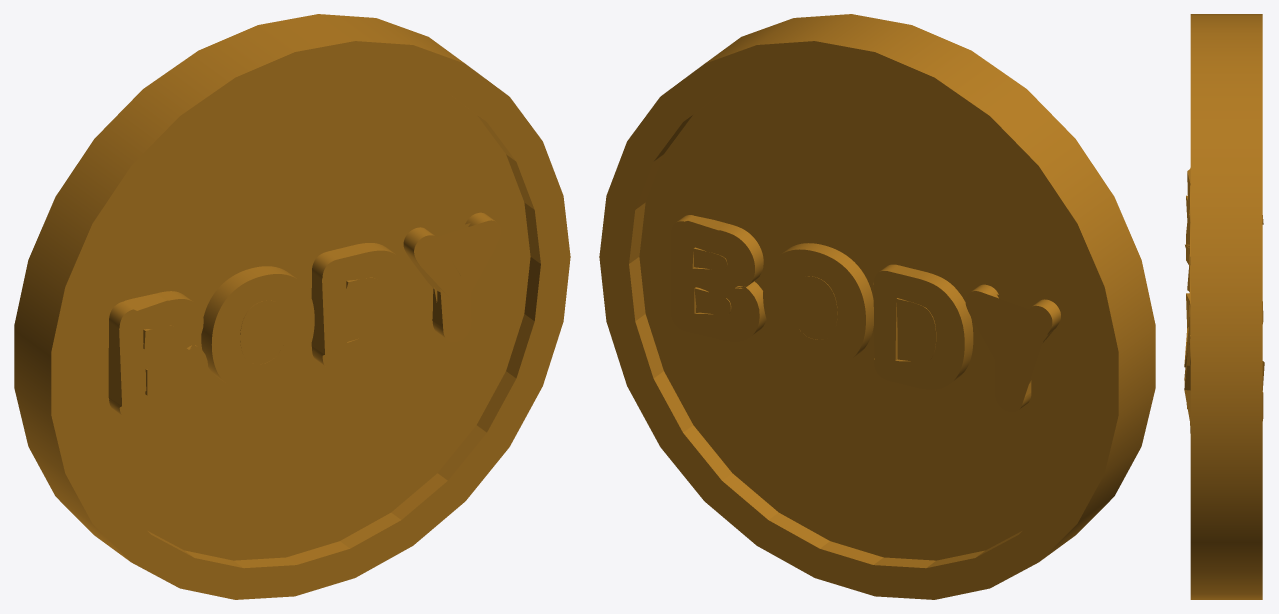
The model's file is coin_body_RE.FBX.
The picture shows the model from 3 angles, left to right: view 1: azimuth 30°, elevation 25°; view 2: azimuth 150°, elevation 25°; view 3: azimuth 270°, elevation 25°; orthographic projection. The views are drawn at different scales.
Parts seen in each view (by area): view 1: Cylinder001; view 2: Cylinder001; view 3: Cylinder001.
Part boxes in pixels (bbox=[...]): Cylinder001: bbox=[14, 14, 570, 599]; Cylinder001: bbox=[599, 14, 1155, 599]; Cylinder001: bbox=[1184, 14, 1264, 599].
Size of the model in its own units: 63.1 by 63.21 by 8.68.
